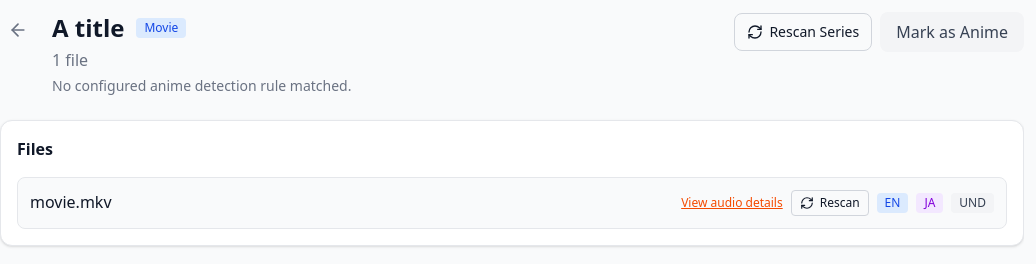
Scenario: marks and unmarks movie consistently and refreshes aggregates
This screenshot has width=1036, height=264.
Click the button "Mark as Anime" at (952, 32), box [880,12,1024,52]
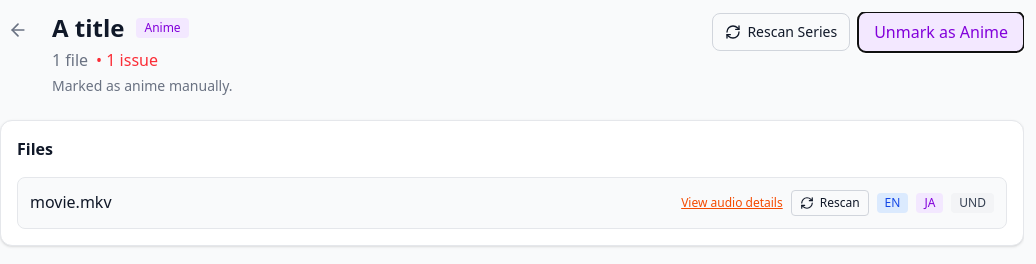
Now the text "Anime" is shown, box [136,18,189,38]
Now the text named "Classification reason" reads "Marked as anime manually.", box [52,76,233,95]
Now the text "• 1 issue" is shown, box [96,49,158,71]
Click the button "Unmark as Anime" at (941, 32), box [858,12,1024,52]
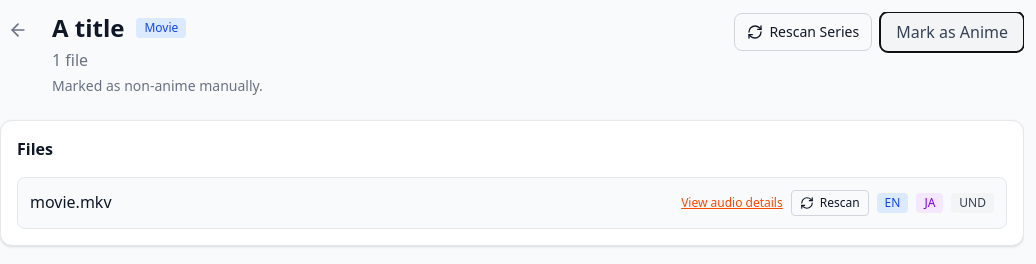
Now the text "Movie" is shown, box [136,18,186,38]
Now the text named "Classification reason" reads "Marked as non-anime manually.", box [52,76,263,95]
Now the text "• 1 issue" is gone
